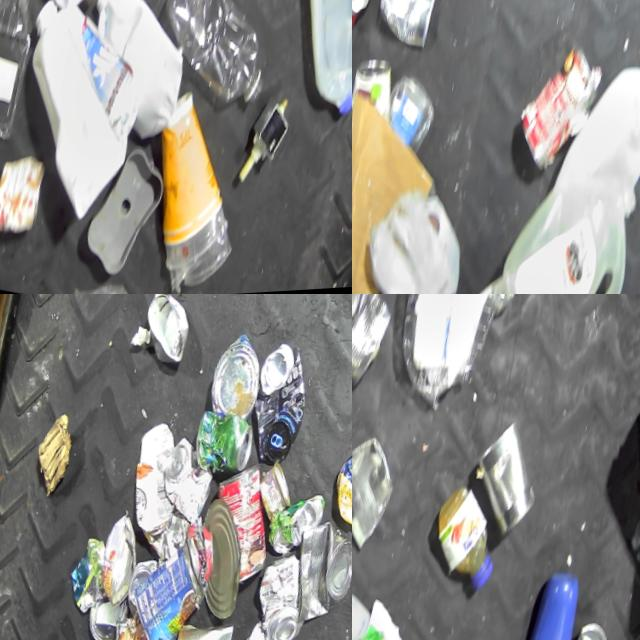can: (499, 37, 605, 185), (188, 458, 283, 592), (458, 416, 552, 546), (111, 532, 214, 640), (233, 339, 317, 470), (175, 497, 253, 624), (272, 516, 352, 636), (352, 422, 408, 566), (237, 549, 311, 640), (148, 434, 218, 530), (198, 329, 267, 423), (0, 134, 56, 249), (85, 510, 143, 611), (184, 406, 256, 483), (256, 486, 323, 565), (352, 49, 398, 161), (352, 294, 402, 396), (362, 0, 447, 55), (131, 294, 195, 367), (245, 460, 295, 528), (319, 446, 352, 538), (115, 555, 155, 620), (74, 590, 124, 640), (90, 613, 174, 640), (153, 612, 231, 640)
milk_jug: (0, 0, 153, 233), (474, 157, 640, 294), (58, 0, 204, 150), (541, 54, 640, 211), (352, 177, 472, 294), (269, 0, 352, 130)
plastic_bottle: (146, 0, 282, 115)
